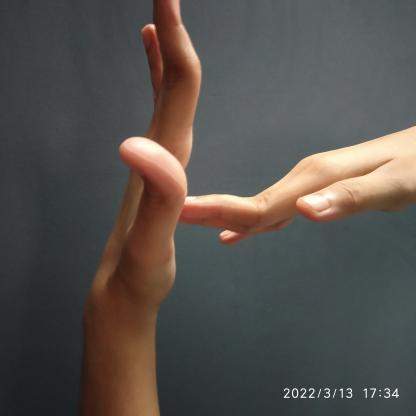Z: (78, 5, 415, 304)
